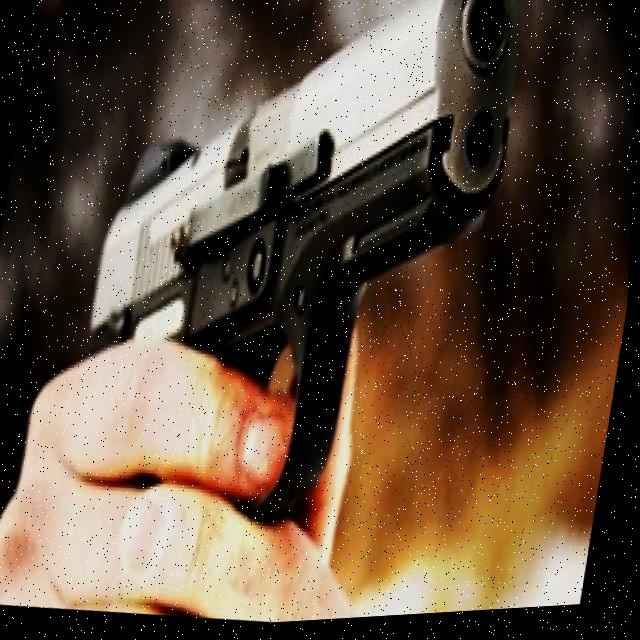pistol: (60, 0, 530, 549)
